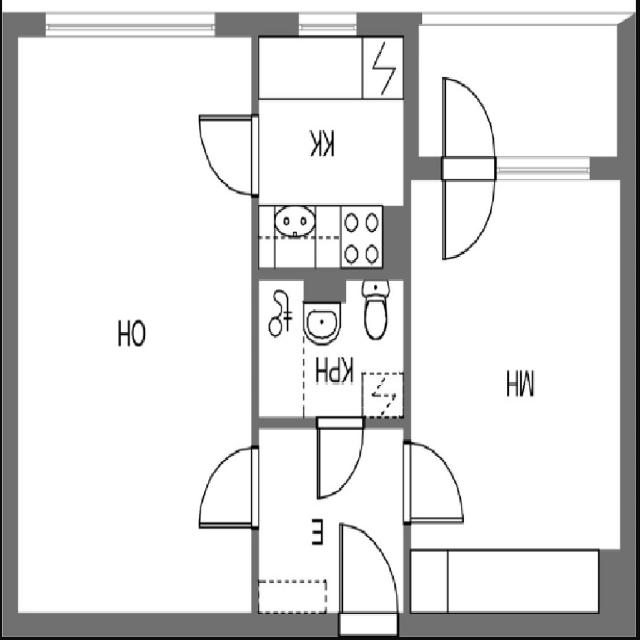door: (441, 72, 497, 264), (402, 430, 468, 534), (192, 437, 260, 529), (337, 516, 397, 616), (196, 109, 259, 201), (312, 413, 366, 503)
window: (495, 148, 596, 189), (292, 5, 359, 41)
zone: (12, 37, 255, 626), (407, 155, 632, 622), (254, 32, 405, 270), (254, 420, 405, 637), (251, 268, 407, 419), (338, 516, 399, 629)
